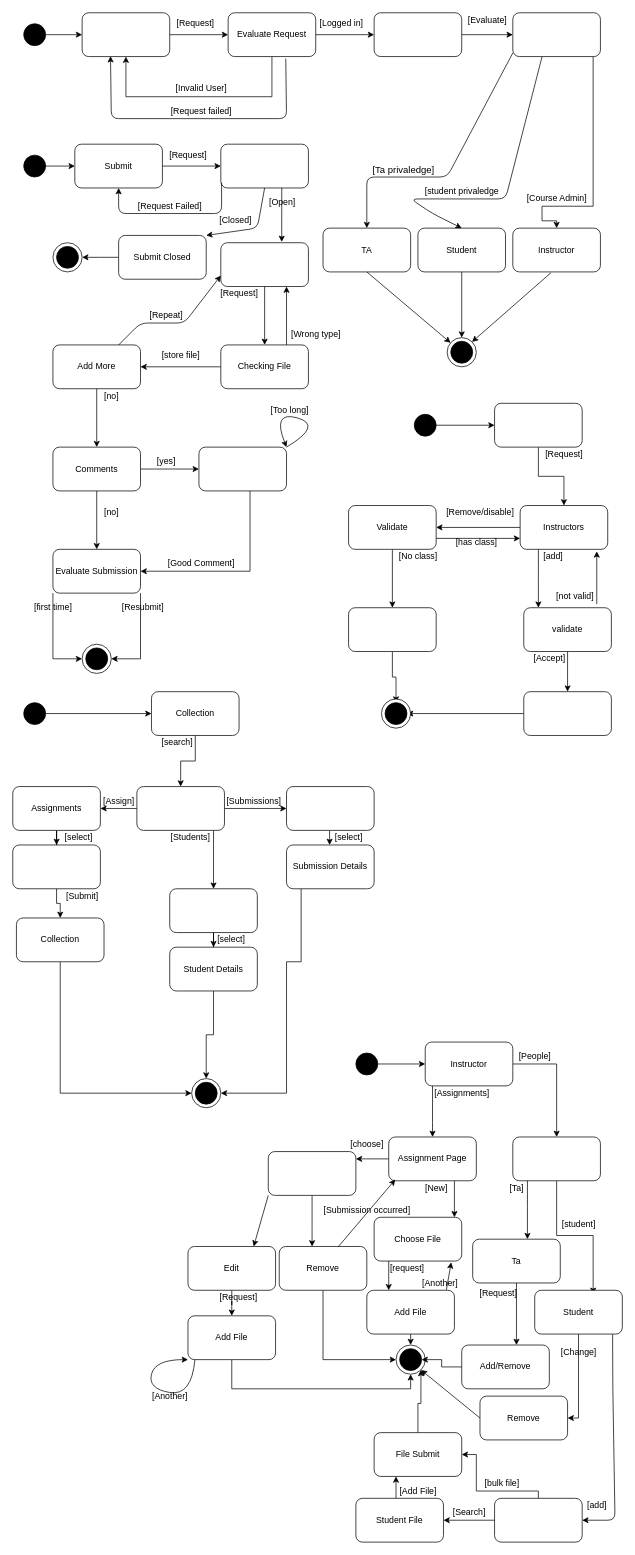
Some shapes in this 635 by 1555 pixel diagram are drawn without their labels. Each missing label, with the box of its shape:
Add: (494, 1498, 582, 1542)
Add professor: (523, 691, 611, 735)
Assignment: (268, 1151, 356, 1195)
Assignment Details: (12, 844, 100, 889)
Change Status: (348, 607, 436, 652)
Check User Type: (373, 12, 462, 57)
Choose Submission: (220, 242, 308, 287)
Evaluate: (220, 143, 308, 188)
Login: (81, 12, 170, 57)
People Apart of Course: (512, 1136, 600, 1181)
Search Info: (136, 786, 224, 830)
Students: (169, 888, 257, 933)
Submissions: (286, 786, 374, 830)
System Admin: (494, 403, 582, 447)
User Comment: (198, 446, 287, 491)
User Type: (512, 12, 600, 57)
